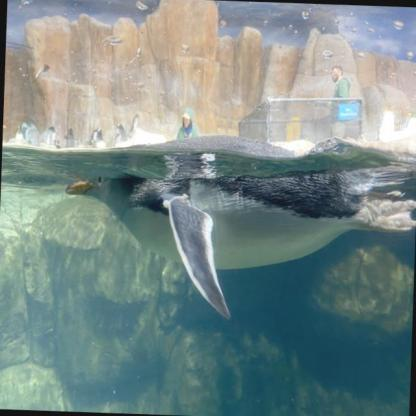penguin: (61, 147, 415, 327), (376, 104, 395, 142), (23, 121, 39, 147), (403, 110, 415, 137), (113, 123, 128, 144), (42, 124, 56, 146), (64, 127, 78, 147), (90, 126, 102, 148), (130, 113, 139, 131), (15, 124, 24, 141)
